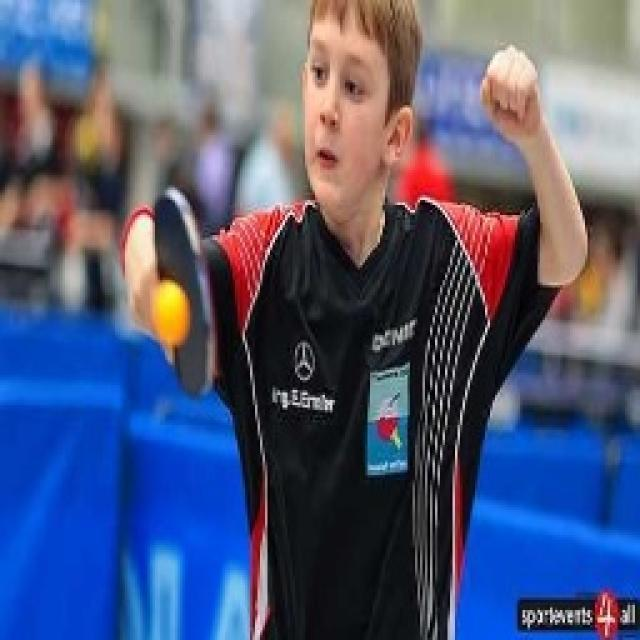oball: (147, 278, 190, 347)
